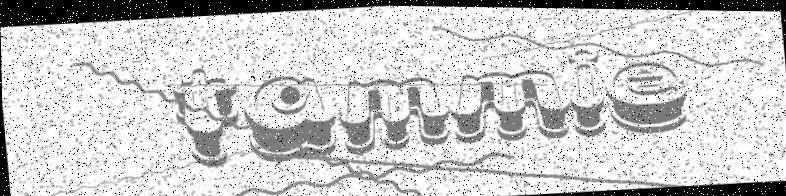a: (237, 64, 339, 158)
e: (601, 51, 693, 138)
i: (562, 41, 610, 137)
m: (333, 68, 453, 154), (447, 62, 571, 145)
t: (167, 62, 246, 170)
